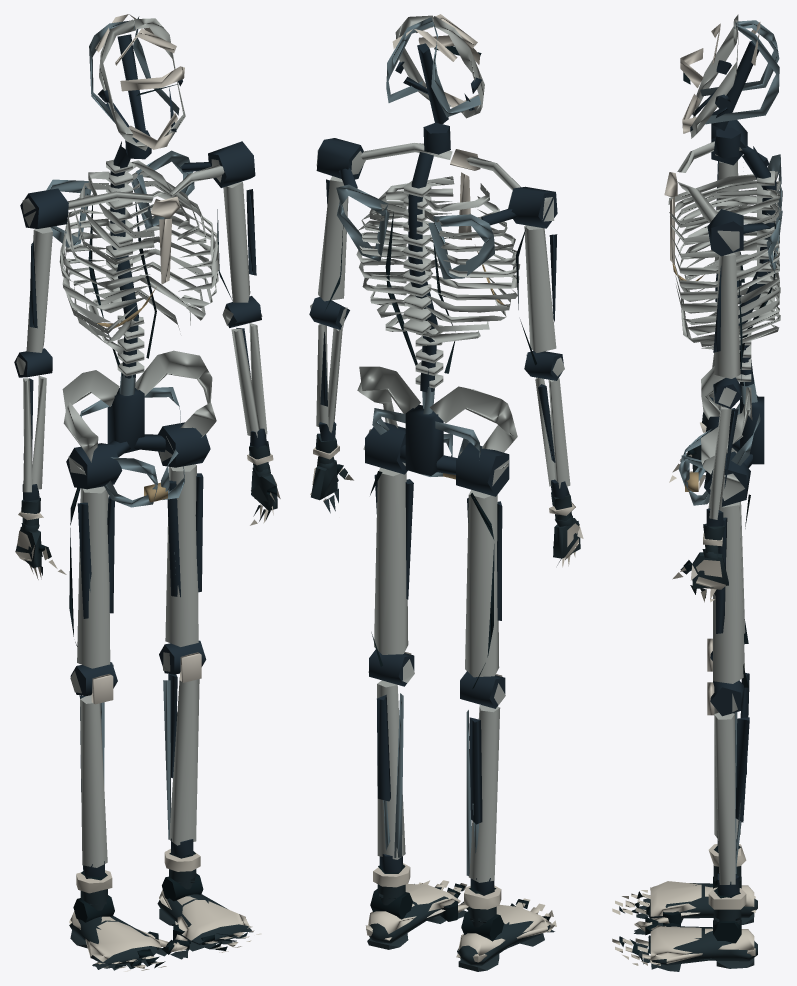
Rendered from aurel03_assembly_d0_lod2.glb.
The picture shows the model from 3 angles, left to right: view 1: azimuth 30°, elevation 25°; view 2: azimuth 150°, elevation 25°; view 3: azimuth 270°, elevation 25°; orthographic projection. The views are drawn at different scales.
Visible parts, largest first — view 1: DISTANCE_SURFACE; view 2: DISTANCE_SURFACE; view 3: DISTANCE_SURFACE.
Part boxes in pixels (box(x1,y1,x2,y2)): DISTANCE_SURFACE: box(14, 14, 280, 971); DISTANCE_SURFACE: box(309, 14, 583, 971); DISTANCE_SURFACE: box(612, 14, 782, 971).
Bounding box in the file's own units: 0.518 × 1.8 × 0.3025.
